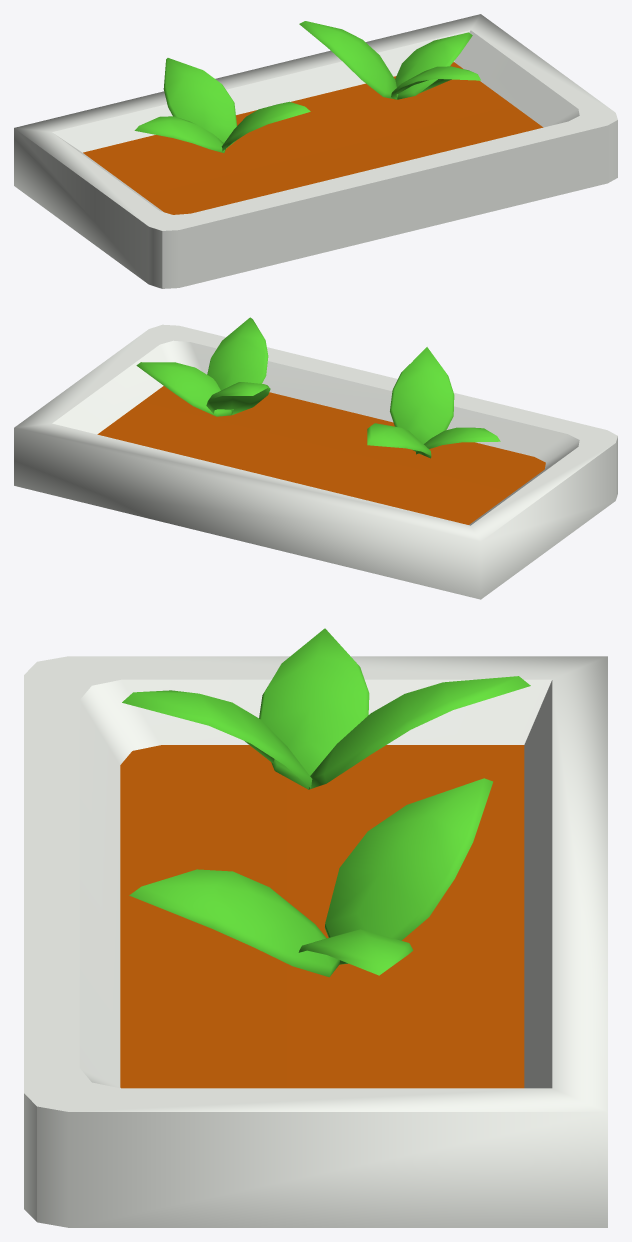
Rendered from TreeTub1.fbx.
3 renders of one model, top to bottom at view 1: azimuth 30°, elevation 25°; view 2: azimuth 150°, elevation 25°; view 3: azimuth 270°, elevation 25°, orthographic. The views are drawn at different scales.
Parts seen in each view (by area): view 1: TreeTub.004; view 2: TreeTub.004; view 3: TreeTub.004.
Part boxes in pixels (x1,y1,x2,y2): TreeTub.004: (14, 14, 617, 288); TreeTub.004: (14, 317, 617, 599); TreeTub.004: (24, 628, 607, 1227).
Bounding box in the file's own units: 300 × 76.19 × 162.
Materials: 1 (1 with a texture image).
